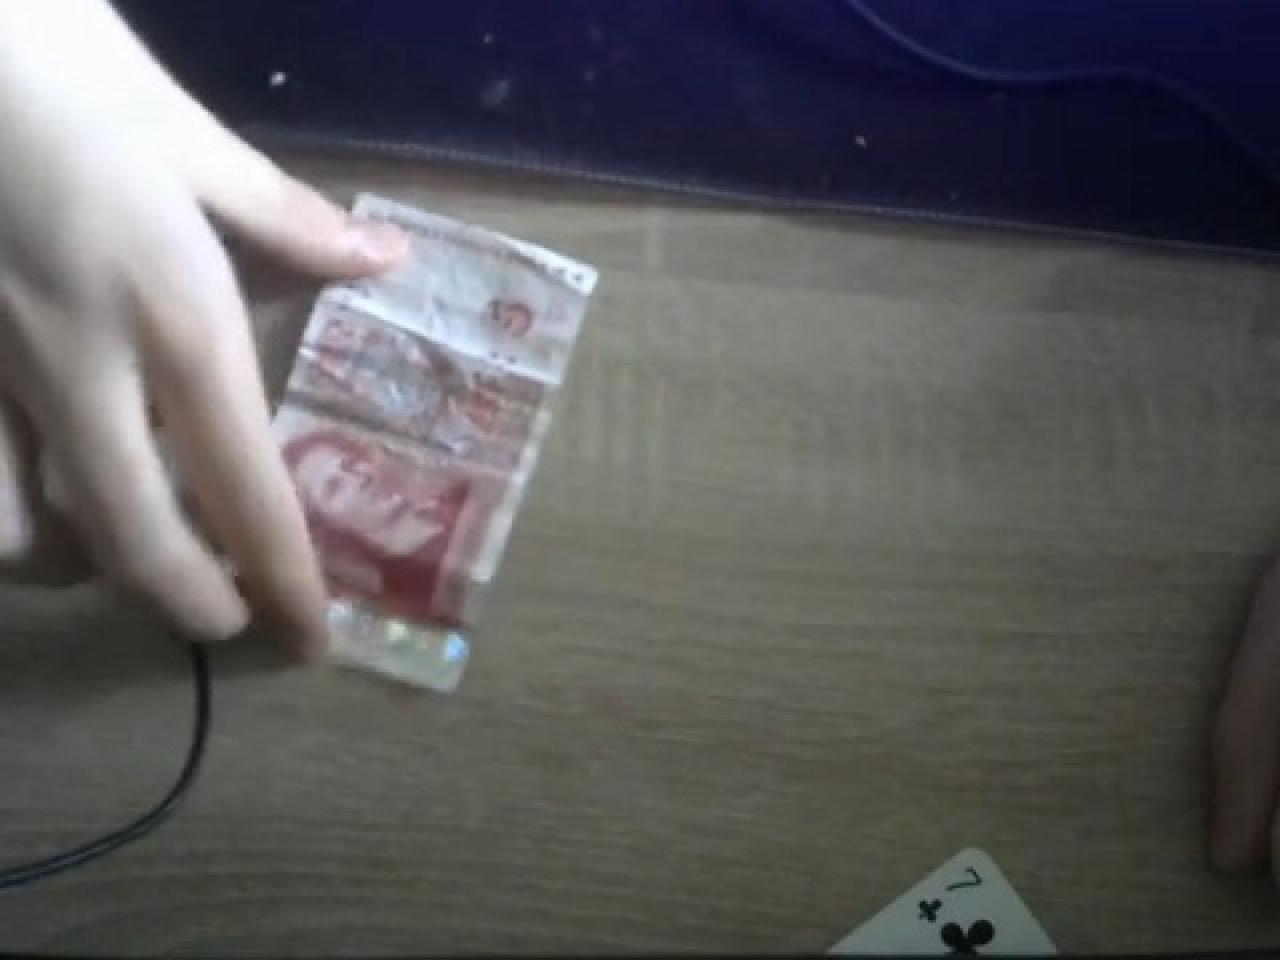5leva: (272, 198, 600, 699)
